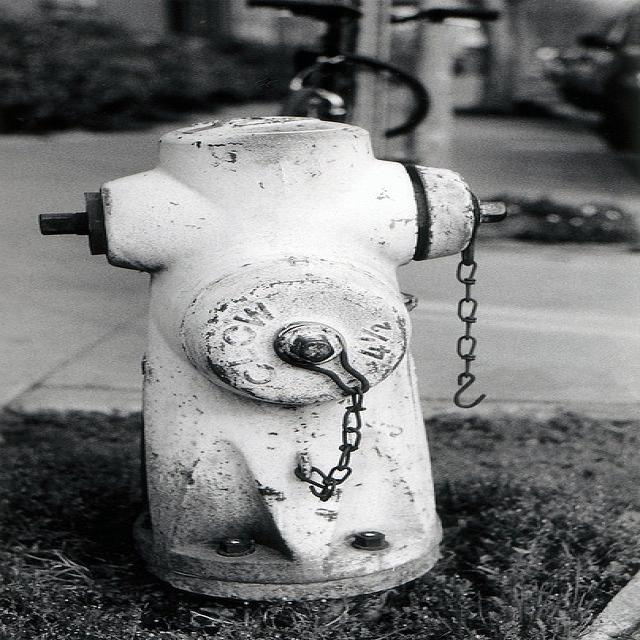fire_hydrant: (16, 59, 597, 624)
